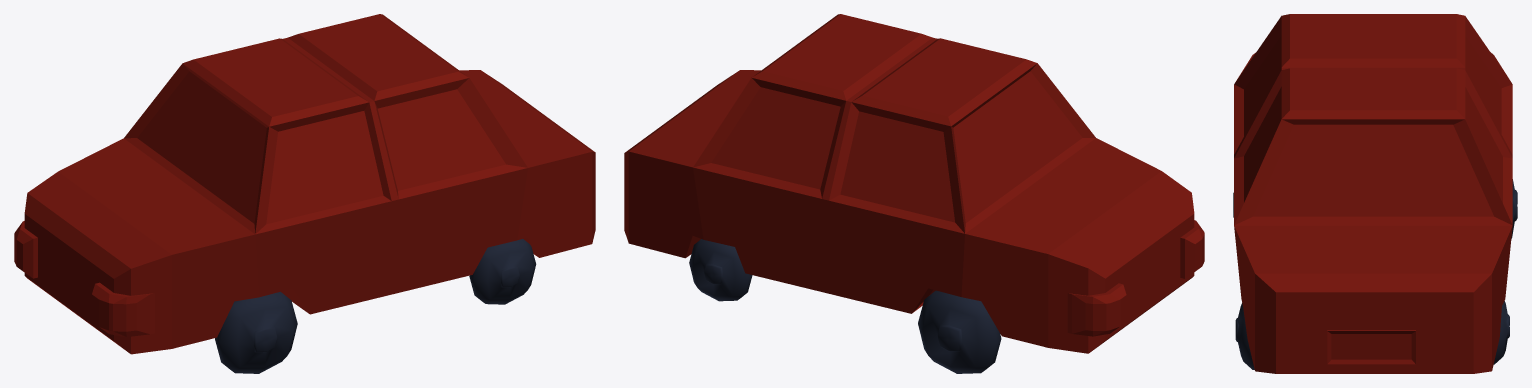
The model's file is car.glb.
3 views of the same model, side by side, from view 1: azimuth 30°, elevation 25°; view 2: azimuth 150°, elevation 25°; view 3: azimuth 270°, elevation 25° (orthographic). The views are drawn at different scales.
Parts seen in each view (by area): view 1: car, wheel.001, wheel.003; view 2: car, wheel, wheel.002; view 3: car, wheel.003, wheel.002, wheel.
Boxes of the visible parts, <box> form: car: <box>14,14,595,354</box>; wheel.001: <box>215,291,297,373</box>; wheel.003: <box>469,239,536,304</box>; car: <box>624,14,1204,353</box>; wheel: <box>918,290,1001,373</box>; wheel.002: <box>689,239,752,301</box>; car: <box>1234,14,1512,373</box>; wheel.003: <box>1235,303,1254,369</box>; wheel.002: <box>1493,301,1509,364</box>; wheel: <box>1511,179,1517,238</box>.
Size of the model in its own units: 3.07 by 1.41 by 1.45.
